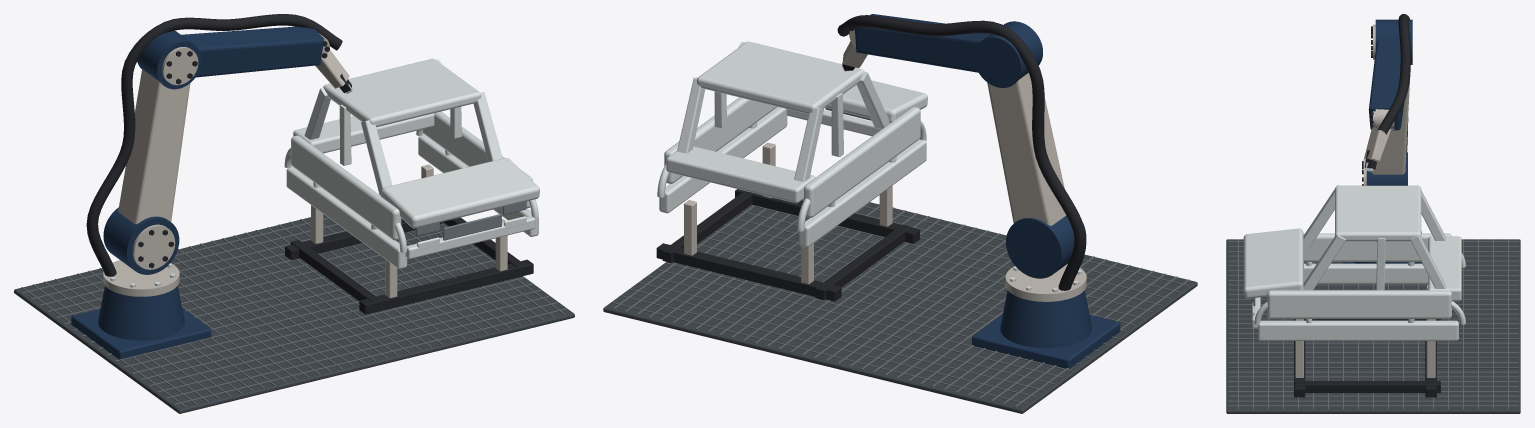
The model's file is robots-31.glb.
The picture shows the model from 3 angles, left to right: view 1: azimuth 30°, elevation 25°; view 2: azimuth 150°, elevation 25°; view 3: azimuth 270°, elevation 25°; orthographic projection. The views are drawn at different scales.
Visible parts, largest first — view 1: floor, body, arm, cabin, pedestal, fixture, joints, hoses, sill, nozzle; view 2: floor, body, cabin, arm, fixture, pedestal, joints, sill, hoses; view 3: floor, body, cabin, sill, arm, fixture, joints, hoses, nozzle.
Boxes of the visible parts, bbox=[...] form: floor: bbox=[14, 214, 574, 413]; body: bbox=[284, 111, 539, 259]; arm: bbox=[118, 26, 323, 224]; cabin: bbox=[304, 58, 502, 195]; pedestal: bbox=[71, 260, 211, 359]; fixture: bbox=[285, 164, 533, 314]; joints: bbox=[103, 30, 329, 274]; hoses: bbox=[86, 14, 342, 276]; sill: bbox=[286, 135, 538, 269]; nozzle: bbox=[315, 50, 349, 88]; floor: bbox=[603, 199, 1197, 413]; body: bbox=[657, 80, 927, 231]; cabin: bbox=[677, 41, 889, 181]; arm: bbox=[855, 14, 1066, 225]; fixture: bbox=[656, 142, 919, 301]; pedestal: bbox=[972, 264, 1120, 368]; joints: bbox=[849, 21, 1086, 278]; sill: bbox=[659, 107, 926, 247]; hoses: bbox=[837, 15, 1086, 290]; floor: bbox=[1226, 239, 1520, 413]; body: bbox=[1243, 228, 1465, 328]; cabin: bbox=[1303, 185, 1445, 290]; sill: bbox=[1258, 263, 1458, 340]; arm: bbox=[1368, 38, 1410, 174]; fixture: bbox=[1294, 284, 1440, 397]; joints: bbox=[1362, 19, 1412, 185]; hoses: bbox=[1377, 14, 1410, 152]; nozzle: bbox=[1364, 124, 1391, 162].
Size of the model in its own units: 3.52 by 2.54 by 2.55.
